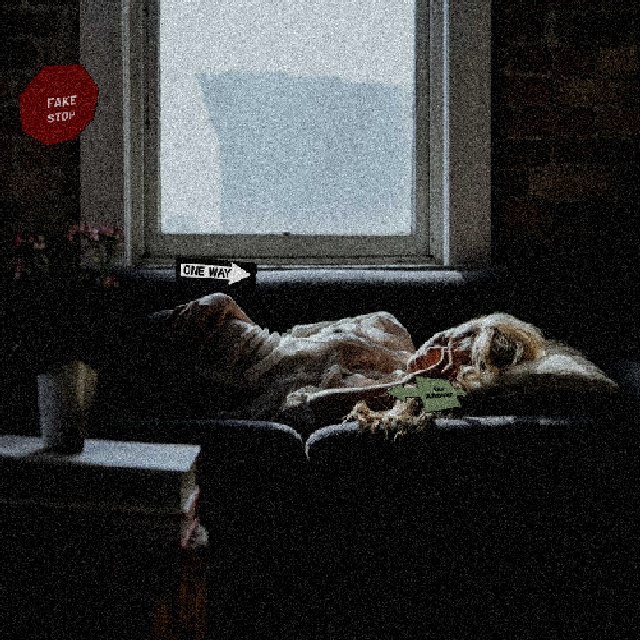FAKE_STOP: (16, 62, 98, 145)
GO_AROUND: (383, 374, 466, 412)
ONE_WAY_ right: (173, 255, 256, 287)
